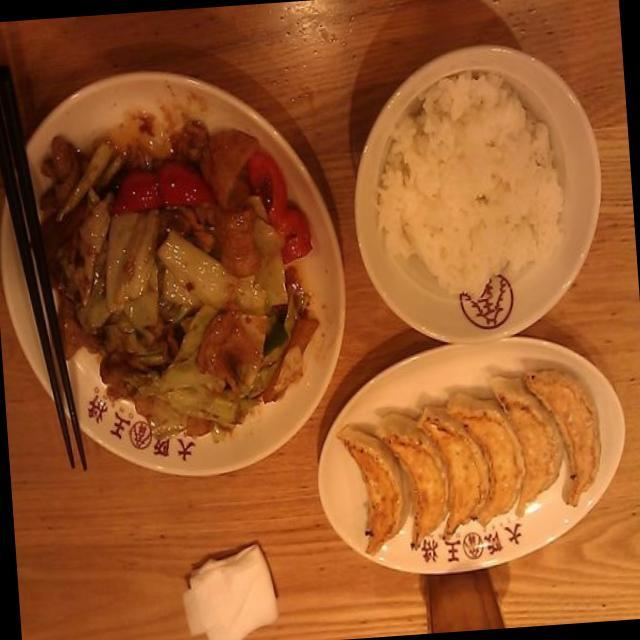Rice: (361, 75, 566, 316)
